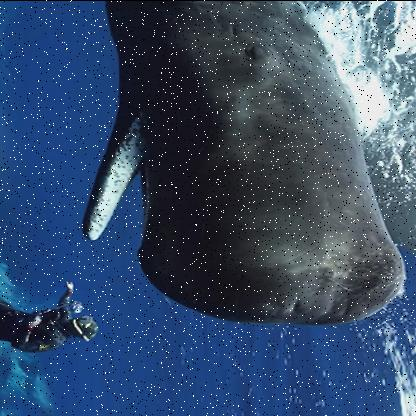sperm_whale: (81, 0, 396, 330)
